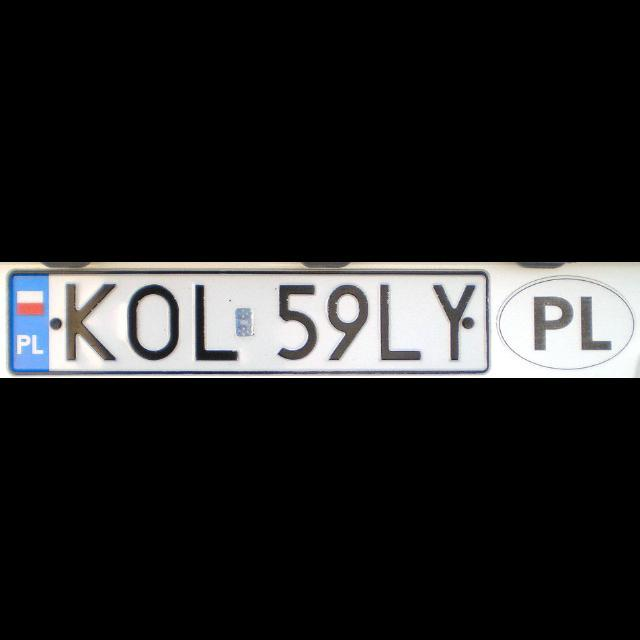license-plates: (9, 271, 491, 374)
